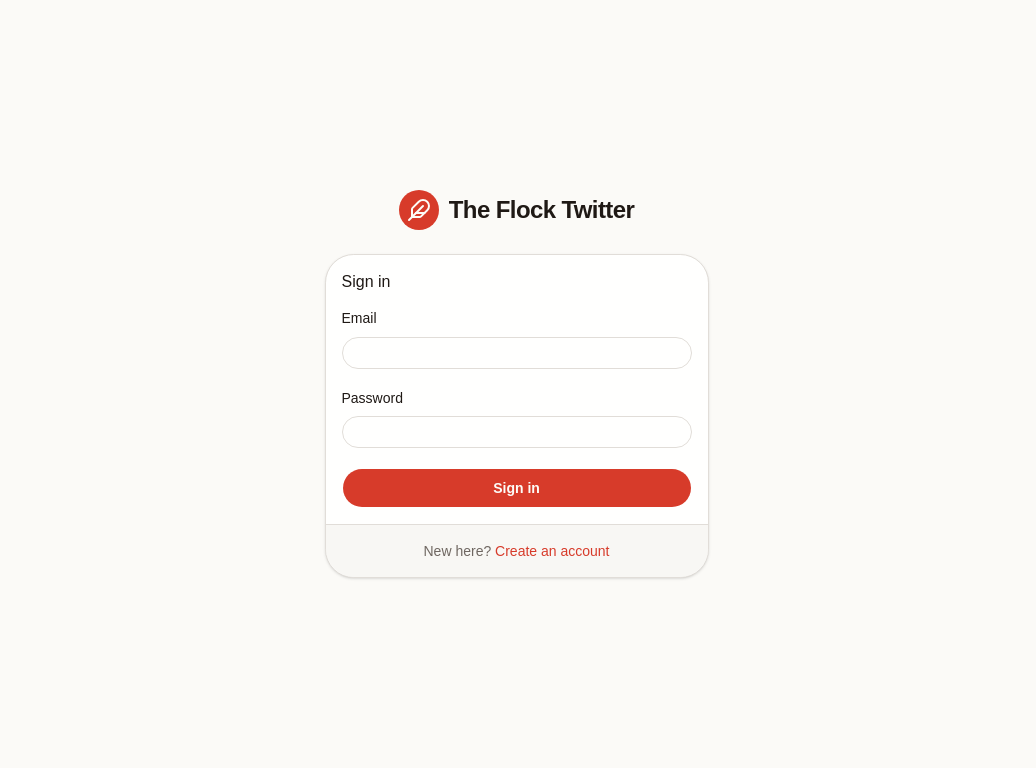
PostDetail › back button › goes to the author's profile after signing in from a direct link (only replaces happened)
Check: the heading "Sign in" is shown, box x1=342 y1=273 x2=390 y2=290
Click the field labelled "Email" at (516,352), box x1=342 y1=336 x2=692 y2=368
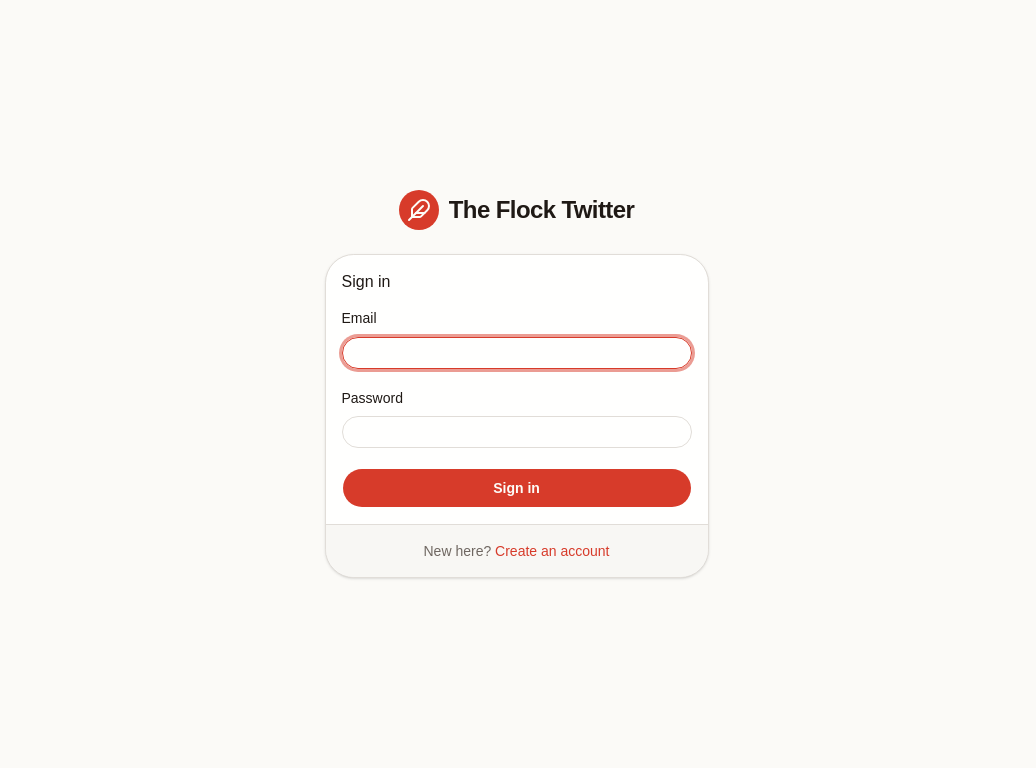
Type keys "ada@example.com"
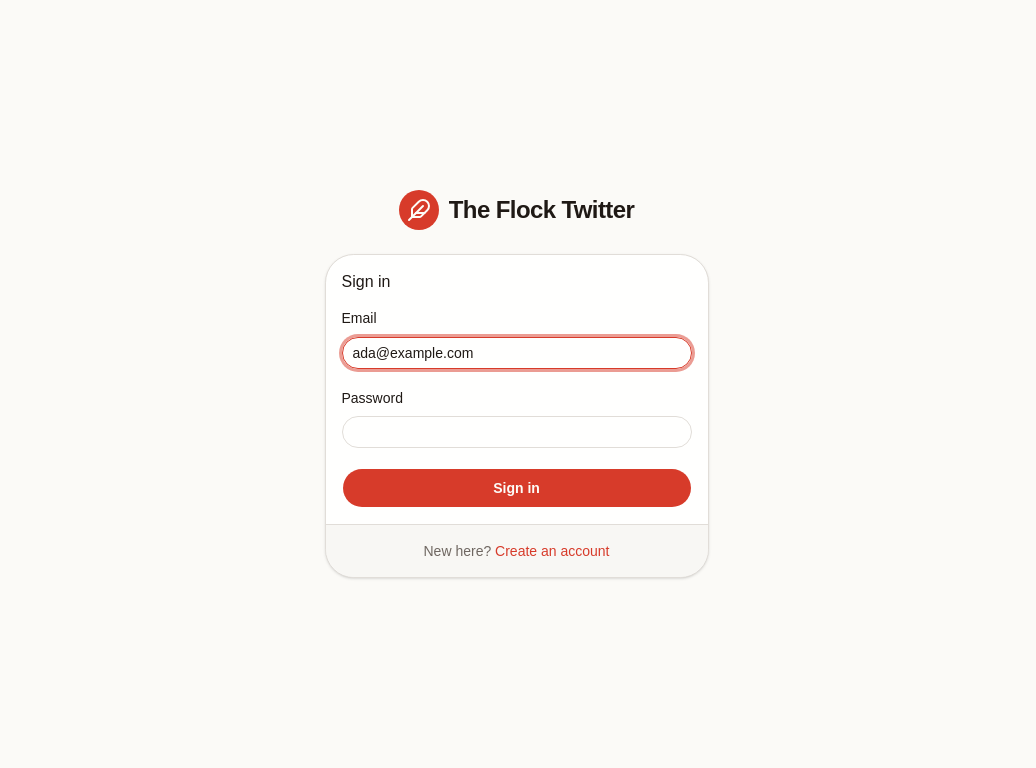
Click the password field labelled "Password" at (516,432), box x1=342 y1=416 x2=692 y2=448
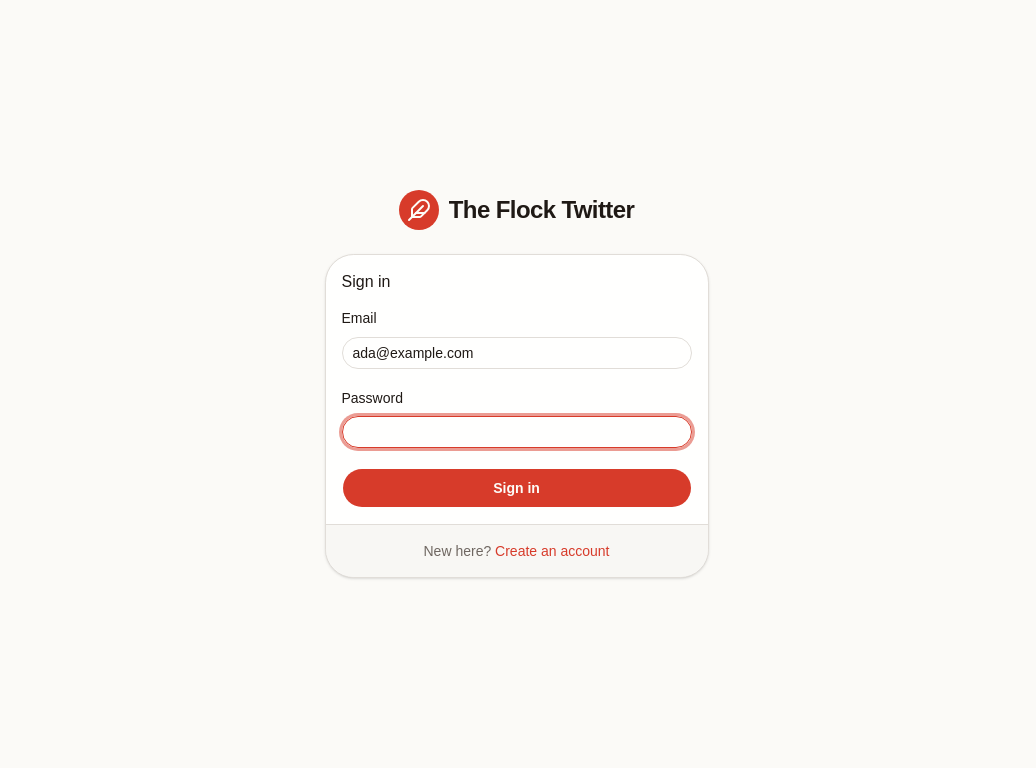
Type keys "correct horse"
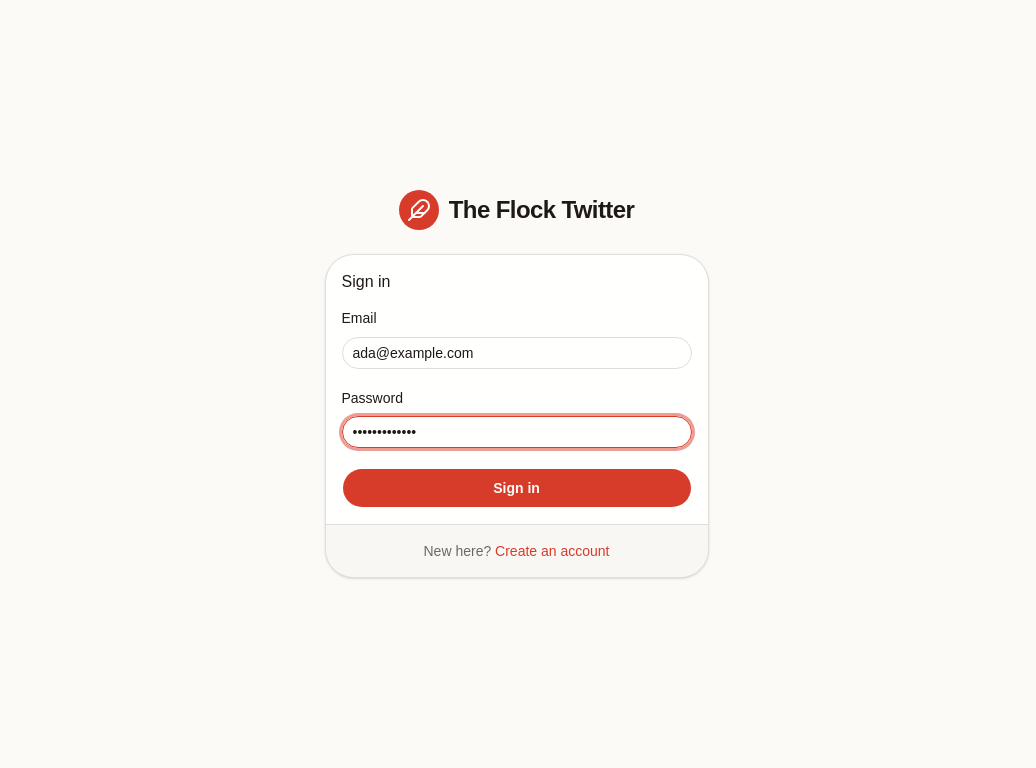
Click the button "Sign in" at (516,488), box x1=342 y1=468 x2=692 y2=508
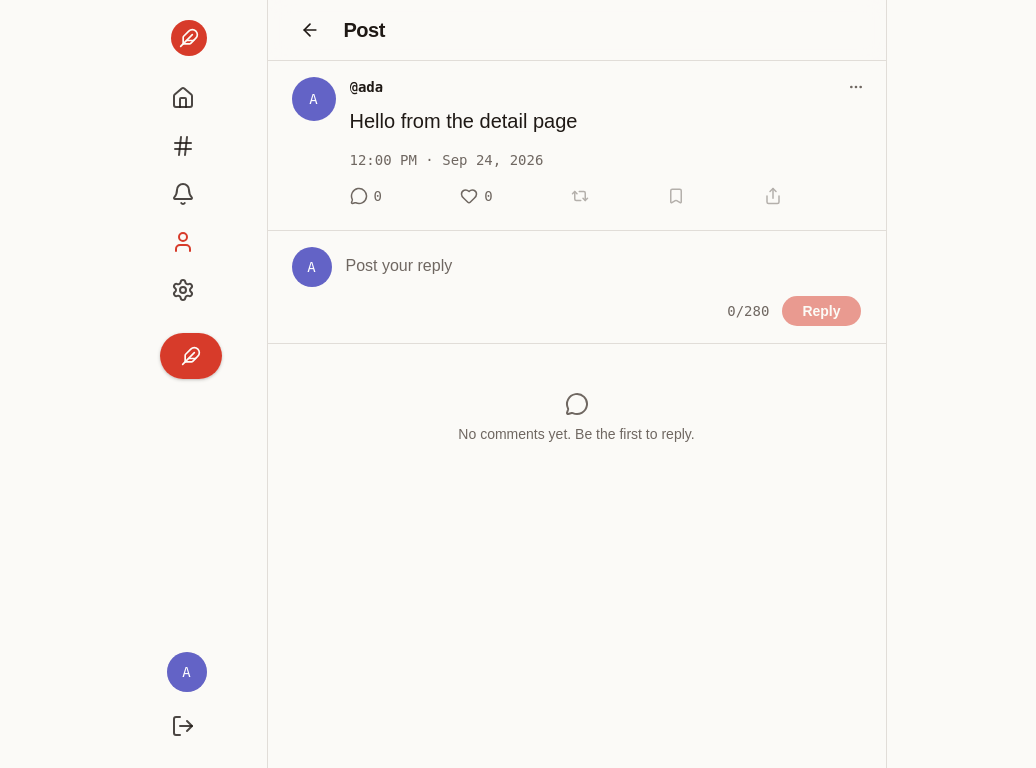
Check: the text "Hello from the detail page" is shown, box x1=350 y1=110 x2=577 y2=132
Click the button named "Back" at (310,30), box x1=292 y1=12 x2=328 y2=48
(page scrolled)
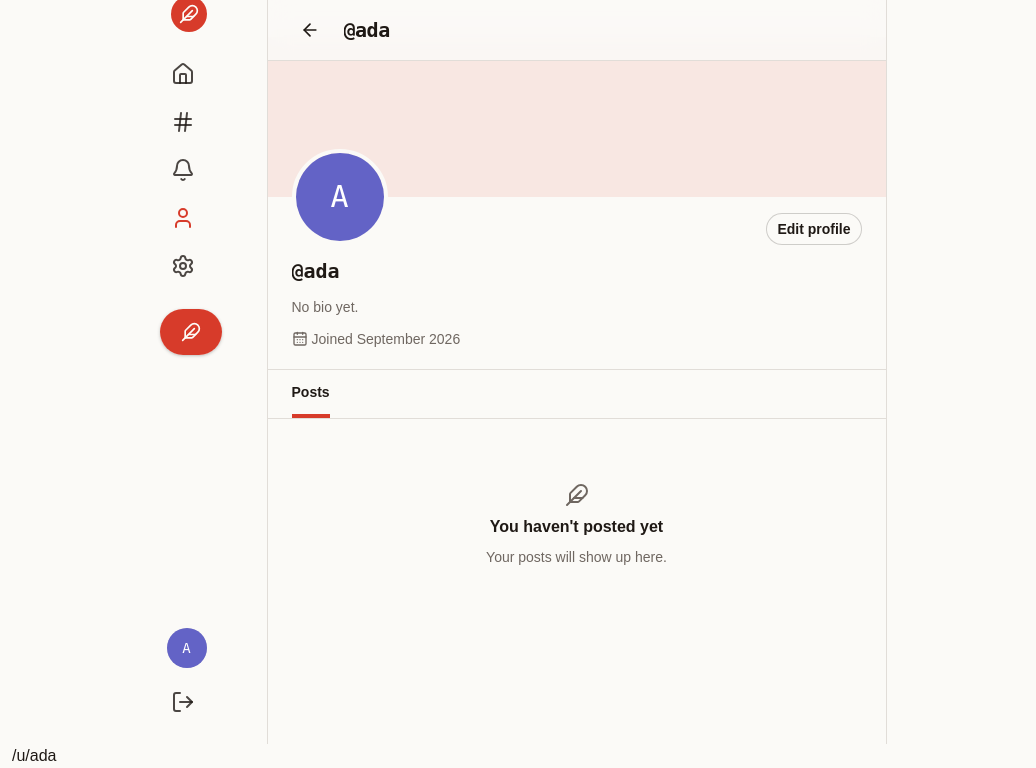
Check: the text with test id "location" reads "/u/ada", box x1=12 y1=747 x2=56 y2=764
